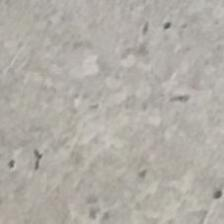Non_Crack: (15, 20, 200, 169)
